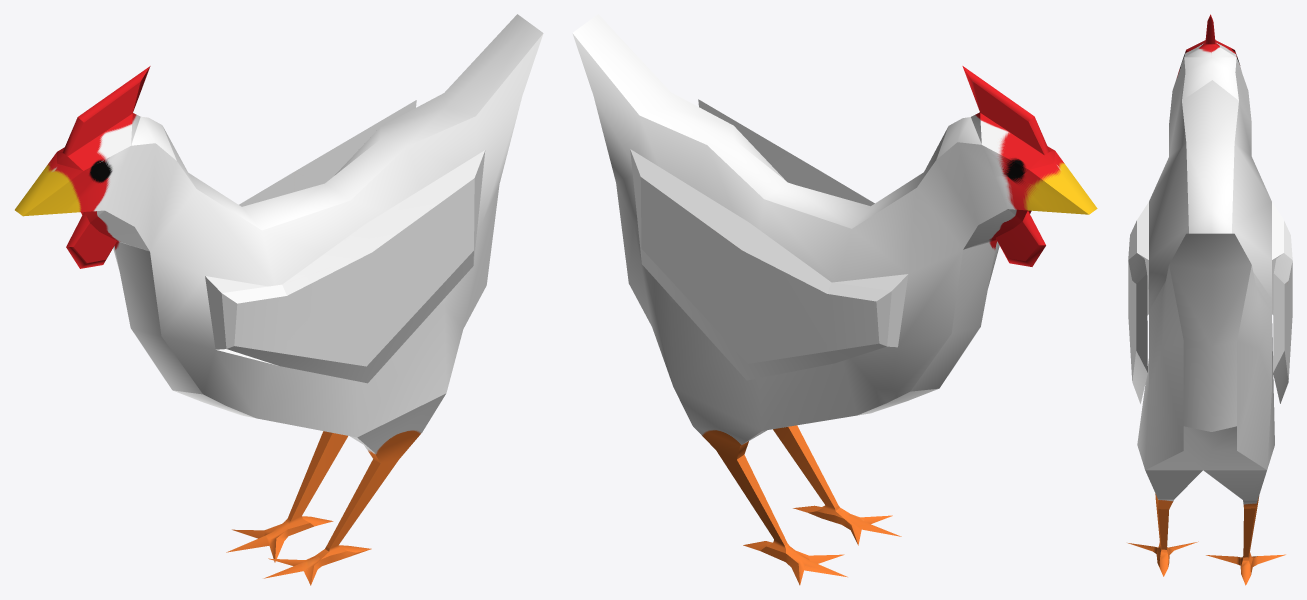
The model's file is chick.fbx.
The picture shows the model from 3 angles, left to right: view 1: azimuth 30°, elevation 25°; view 2: azimuth 150°, elevation 25°; view 3: azimuth 270°, elevation 25°; orthographic projection. The views are drawn at different scales.
Parts seen in each view (by area): view 1: node_id4; view 2: node_id4; view 3: node_id4.
Part boxes in pixels (bbox=[...]): node_id4: bbox=[15, 14, 543, 585]; node_id4: bbox=[572, 14, 1097, 585]; node_id4: bbox=[1128, 14, 1292, 585].
Bounding box in the file's own units: 0.5218 × 0.512 × 0.1592.
1 material, 1 textured.
